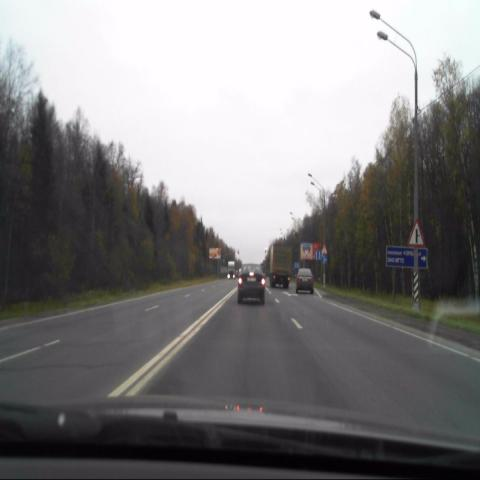2_3_2: (408, 220, 425, 248)
